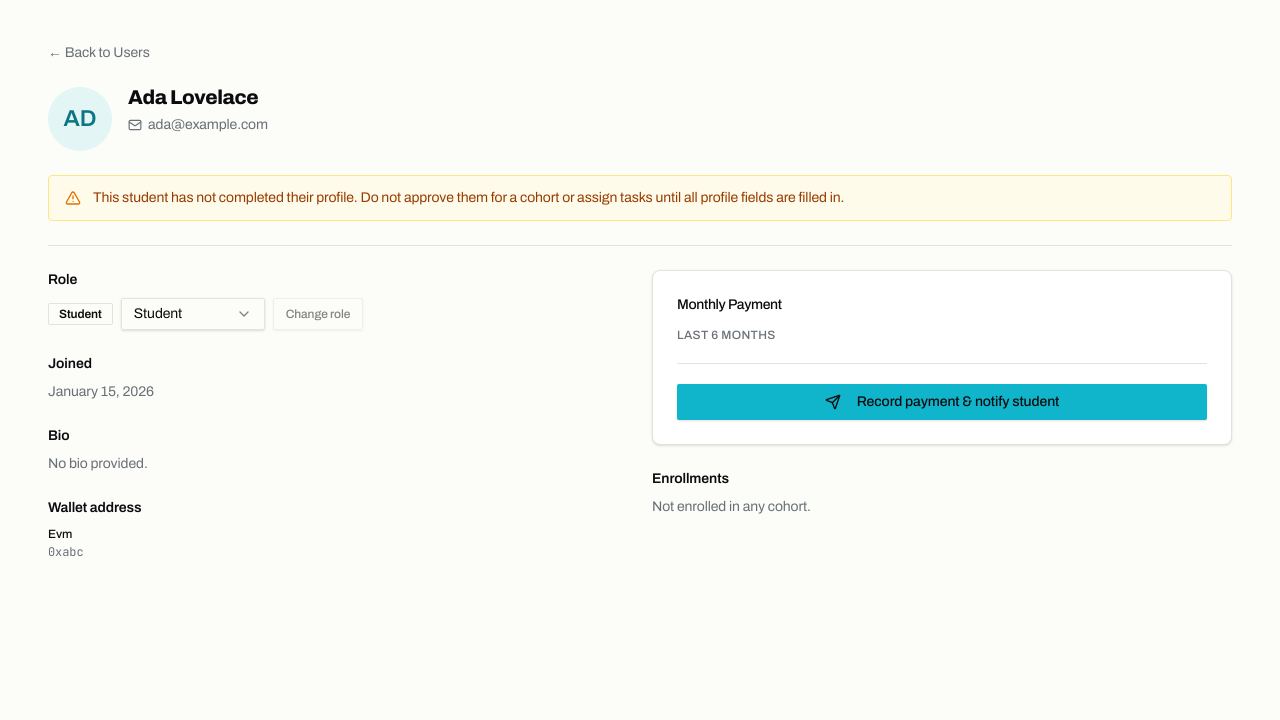
Test case: admin user detail page › picks stipend months in UTC at 2026-10-31T23:30:00.000Z
Click the button "Record payment & notify student" at (942, 402), box [677,384,1207,420]
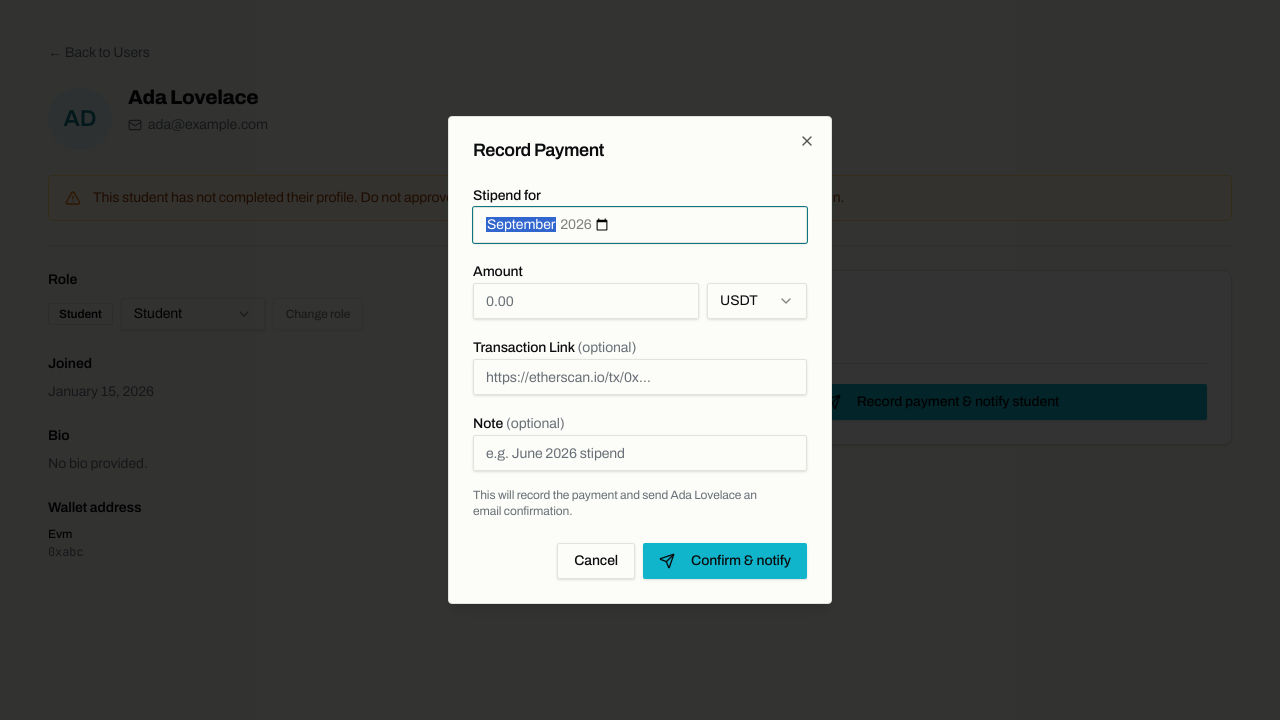
Expected: the field labelled "Stipend for" holds "2026-09", [473,207,807,243]
